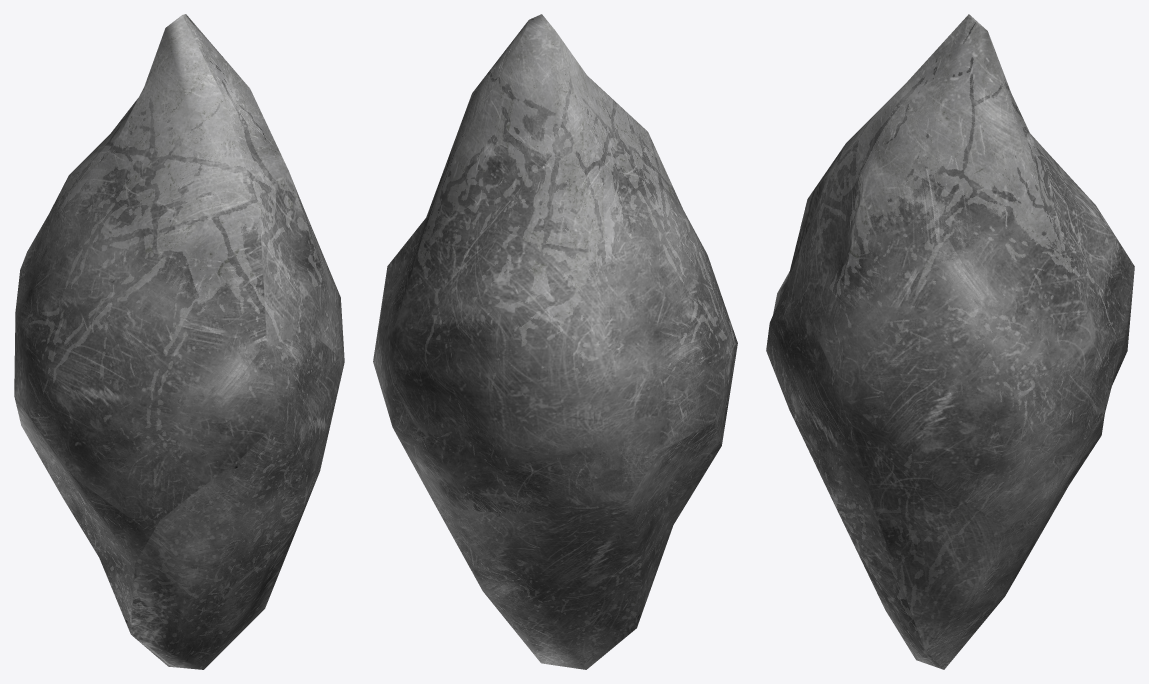
Rendered from crystal_act.fbx.
3 renders of one model, left to right at view 1: azimuth 30°, elevation 25°; view 2: azimuth 150°, elevation 25°; view 3: azimuth 270°, elevation 25°, orthographic. The views are drawn at different scales.
Visible parts, largest first — view 1: crystal_act_mesh_001; view 2: crystal_act_mesh_001; view 3: crystal_act_mesh_001.
Part boxes in pixels (<box>): crystal_act_mesh_001: <box>14,14,344,669</box>; crystal_act_mesh_001: <box>373,14,737,669</box>; crystal_act_mesh_001: <box>766,14,1134,669</box>.
Size of the model in its own units: 7.26 by 14.71 by 7.57.
